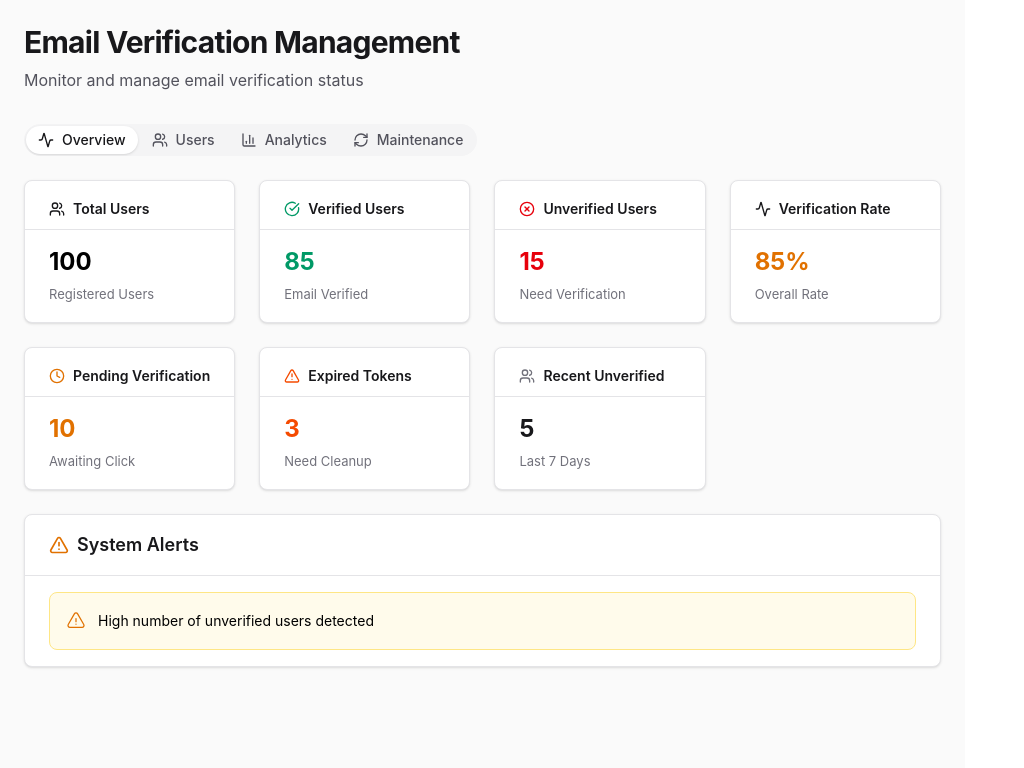
Test: EmailVerificationManagement › Analytics Tab › should switch to analytics tab
Expected: the heading "Total Users" is shown, [49,200,149,217]
Click the button "Analytics". click: (284, 140)
box: [229,126,339,154]
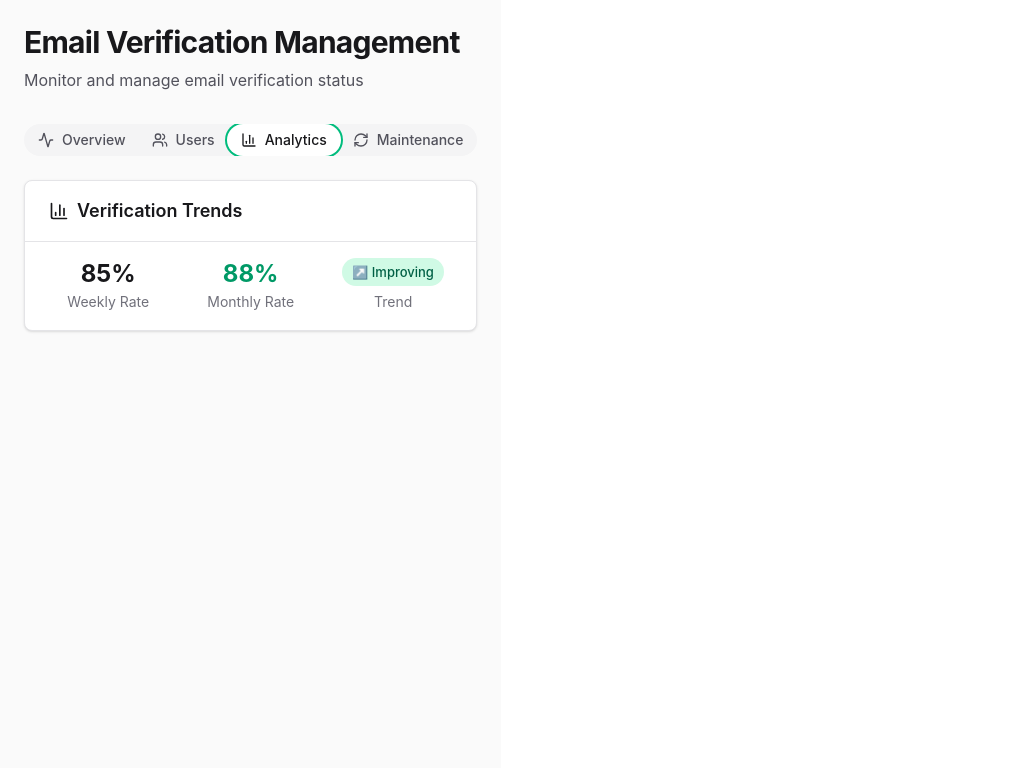
Expected: the heading "Verification Trends" is shown, [49,200,242,221]
